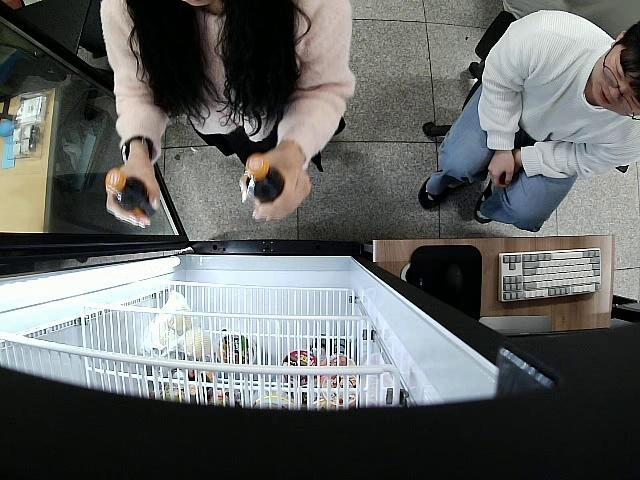17_vita500: (104, 170, 157, 222), (242, 152, 284, 203)
